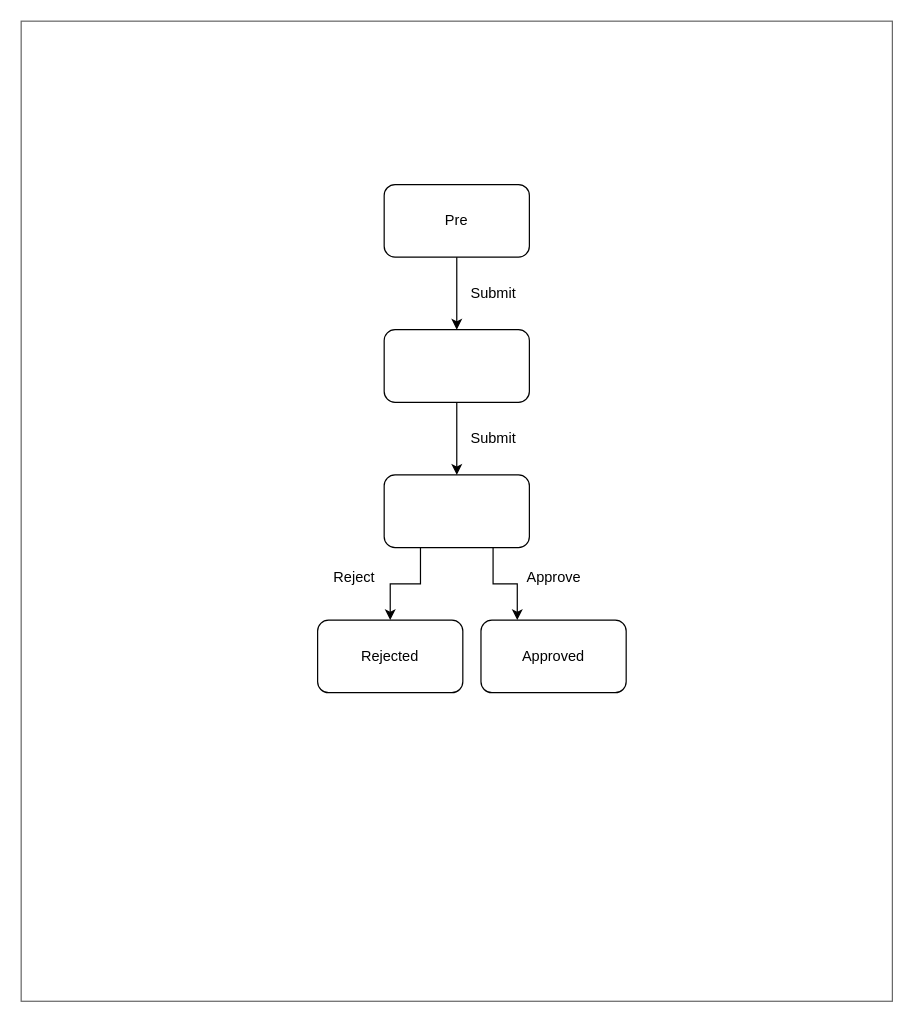
The diagram is 914 pixels wide and 1022 high, and some of its shapes have lost their labels. The shapes that lost their labels are listed below. From the top down, each one's box as (x1, y1, x2, y2) in pixels, then its label:
(383, 329, 529, 402): Draft
(383, 474, 529, 548): Submitted
